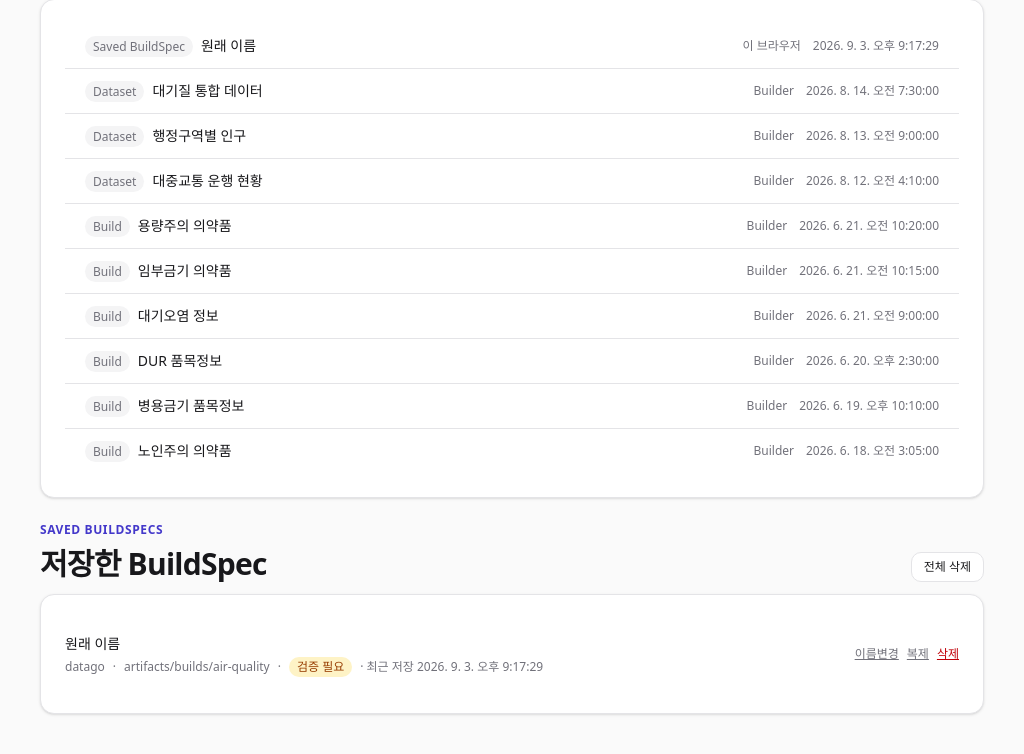
Test: Saved BuildSpecs › renames a saved spec inline
(page scrolled)
Click the button "이름변경" at (877, 654), box [855, 646, 899, 662]
(page scrolled)
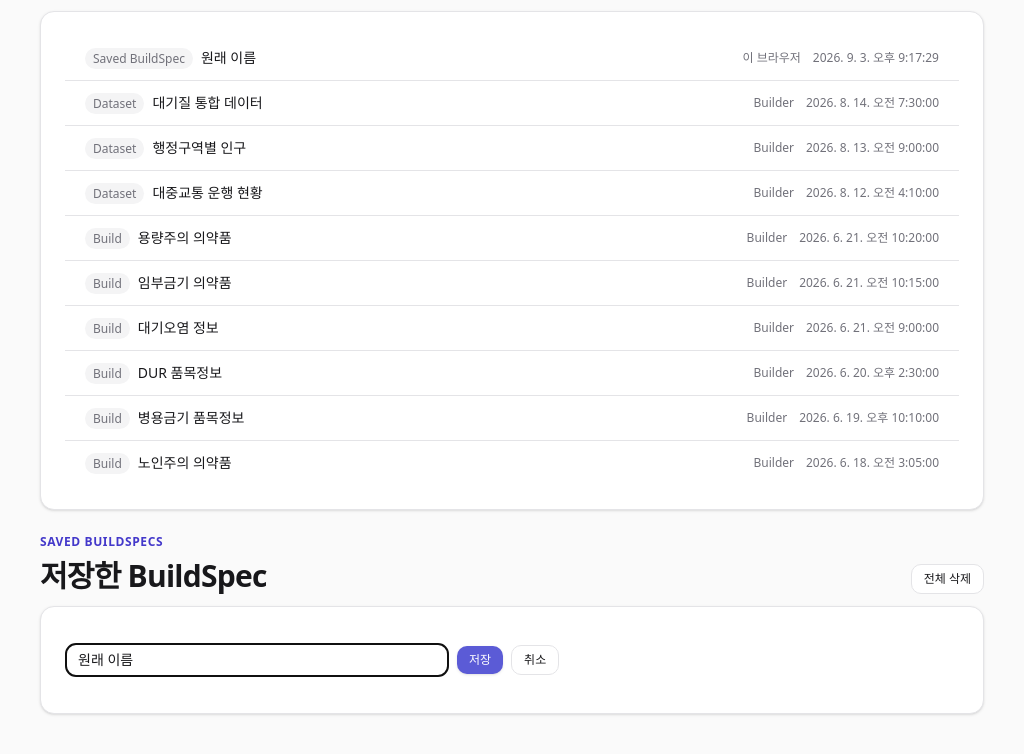
Replace the text in the field showing "원래 이름" with "새 이름" at (257, 660), box [65, 643, 449, 677]
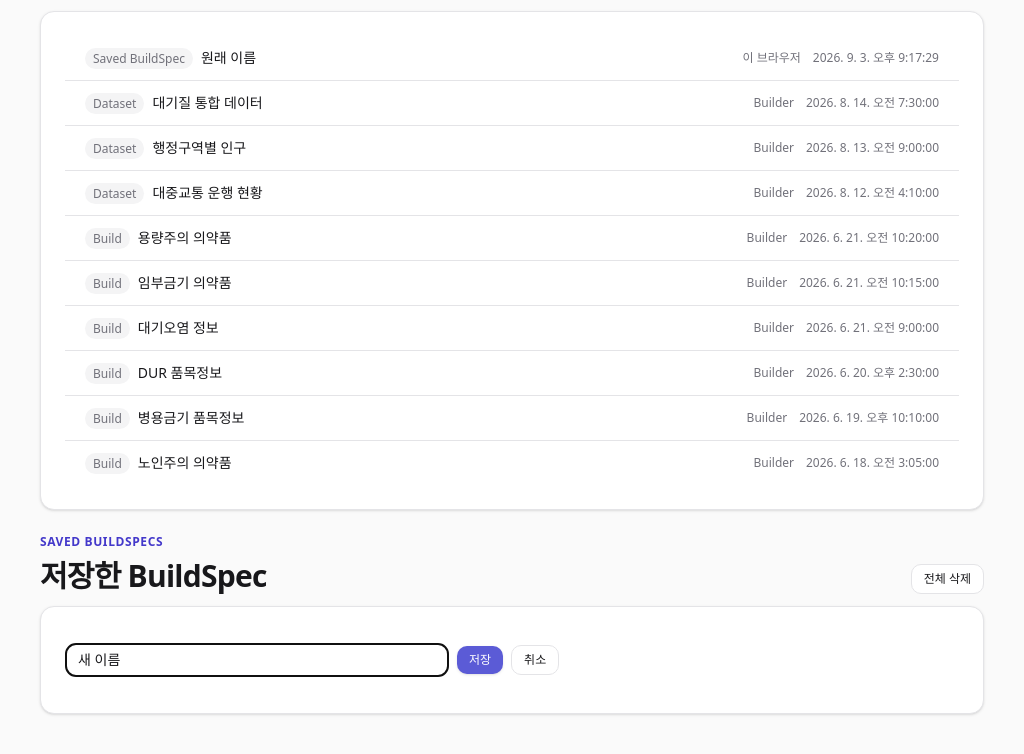
Press Enter in the field showing "원래 이름", box [65, 643, 449, 677]
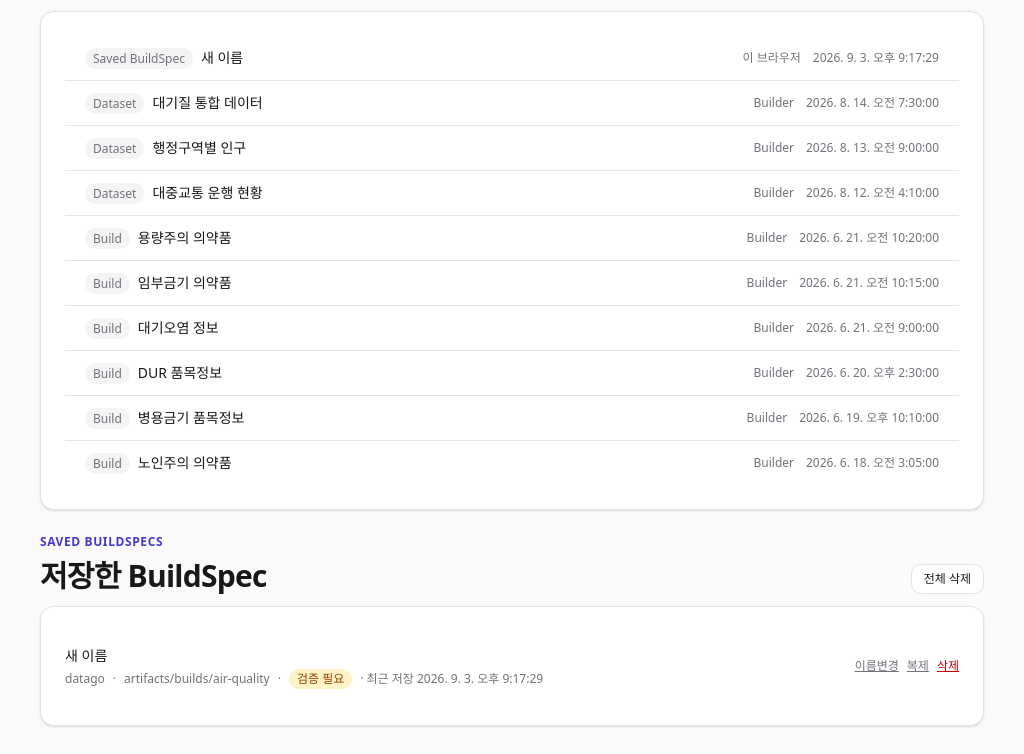
Expected: the text "새 이름" is shown, [201, 48, 243, 67]
